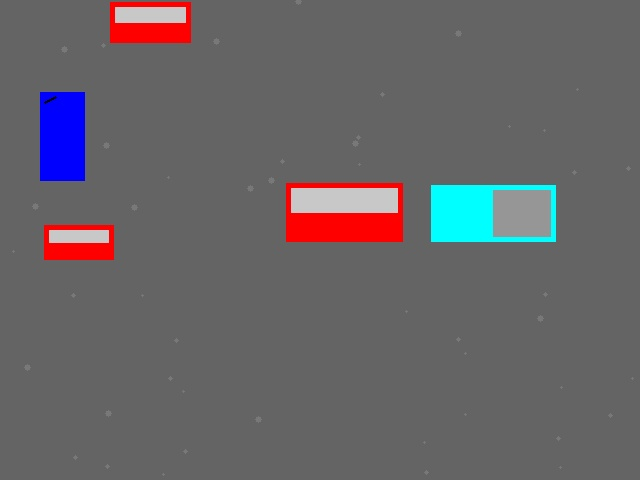car: (286, 183, 402, 241), (110, 2, 190, 42), (44, 225, 113, 259)
motorcycle: (40, 92, 84, 180)
truck: (431, 185, 555, 241)
